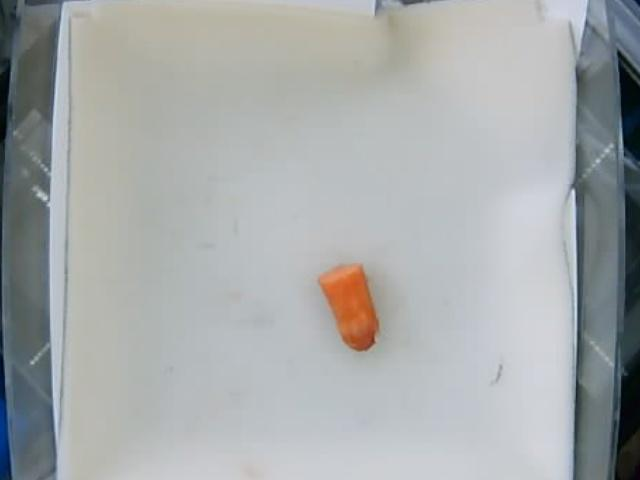Carrot: (318, 262, 378, 352)
